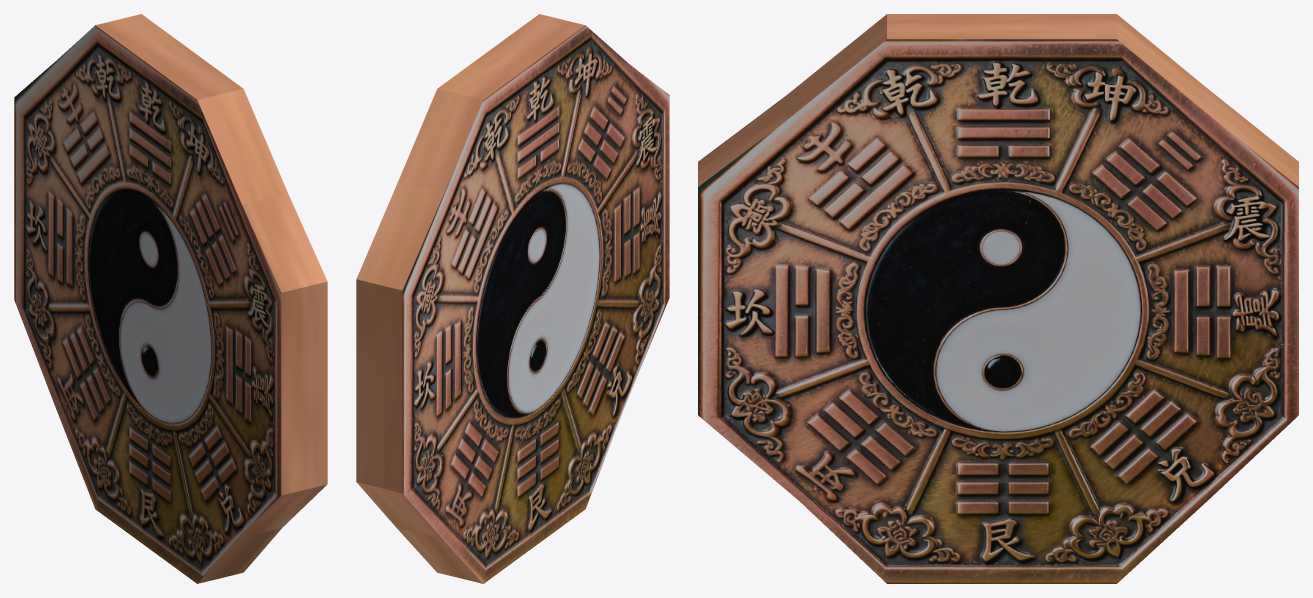
The model's file is plate.fbx.
3 renders of one model, left to right at view 1: azimuth 30°, elevation 25°; view 2: azimuth 150°, elevation 25°; view 3: azimuth 270°, elevation 25°, orthographic. The views are drawn at different scales.
Parts seen in each view (by area): view 1: Cube; view 2: Cube; view 3: Cube.
Part boxes in pixels (box(x1,y1,x2,y2)): Cube: box(14, 14, 327, 583); Cube: box(356, 14, 669, 583); Cube: box(698, 14, 1298, 583).
Size of the model in its own units: 2 by 20 by 20.
1 material, 1 textured.
